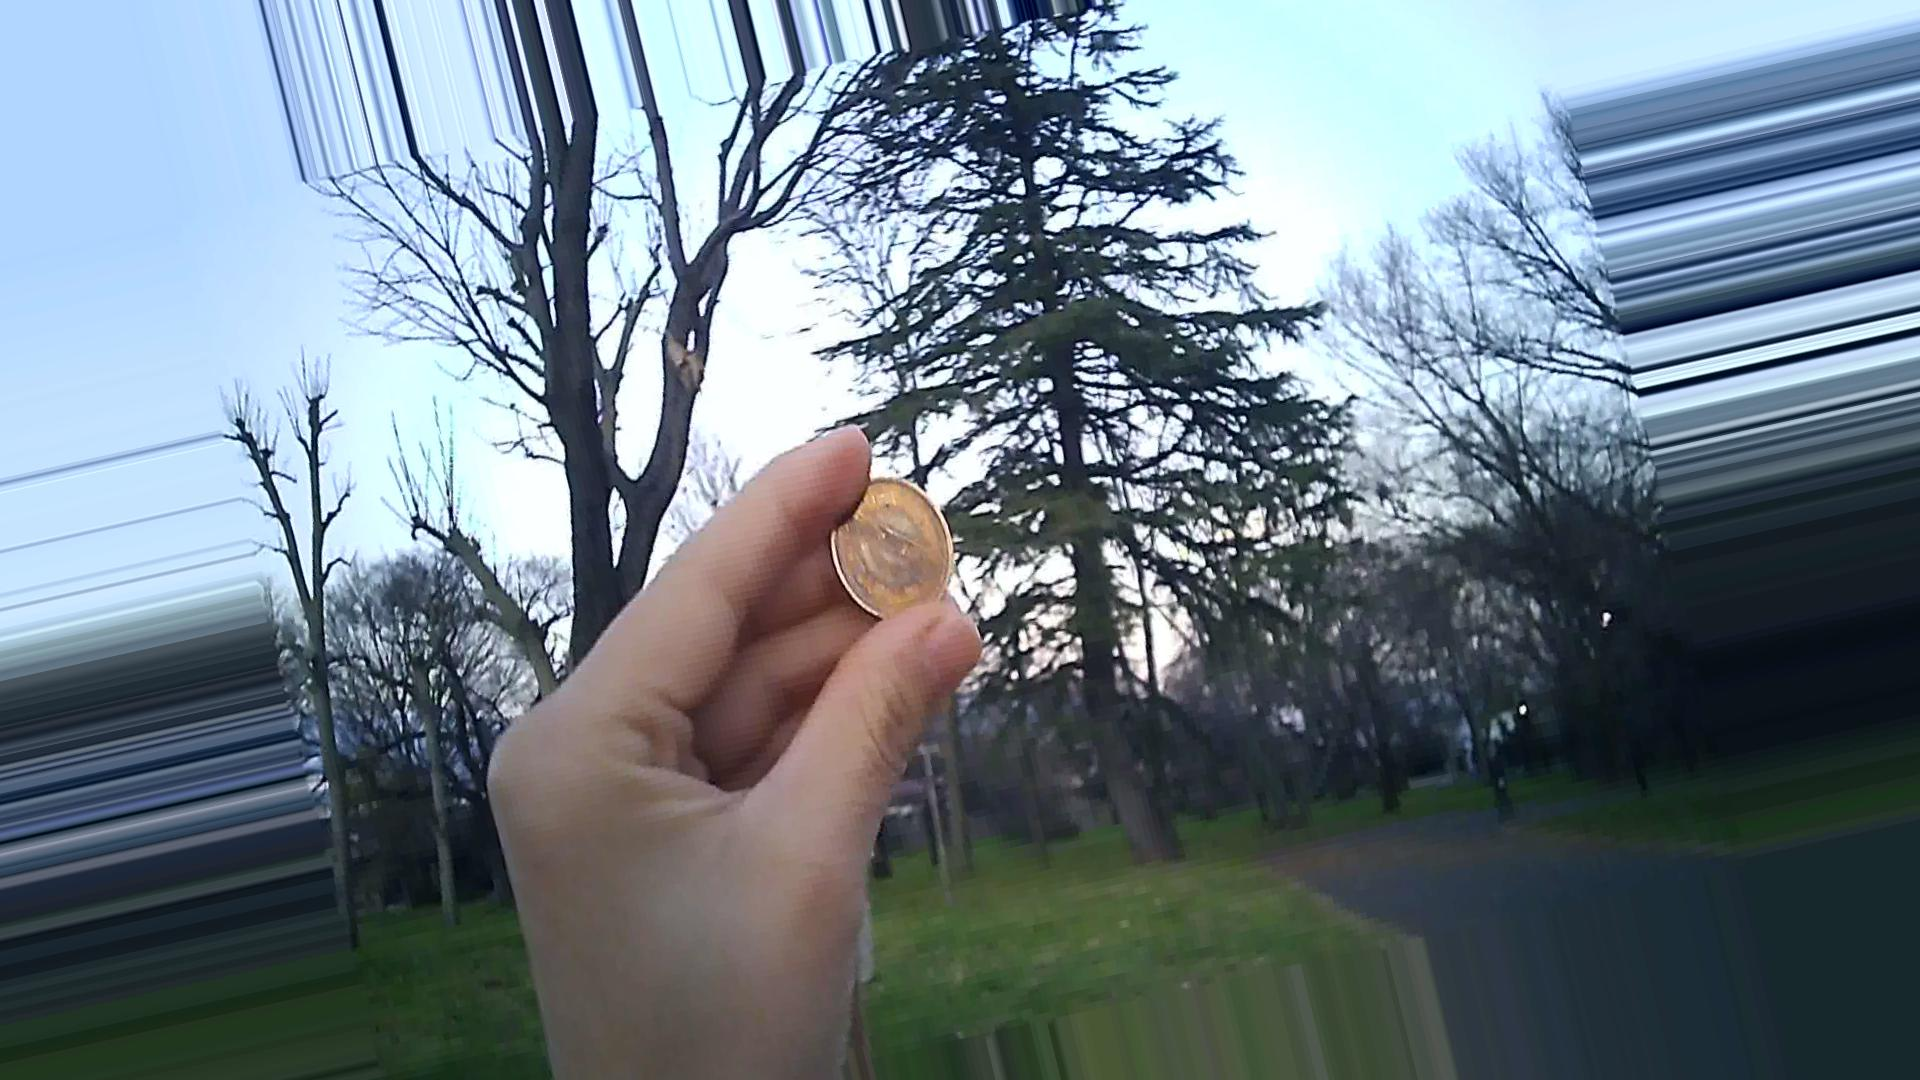10 Yen: (822, 462, 972, 618)
